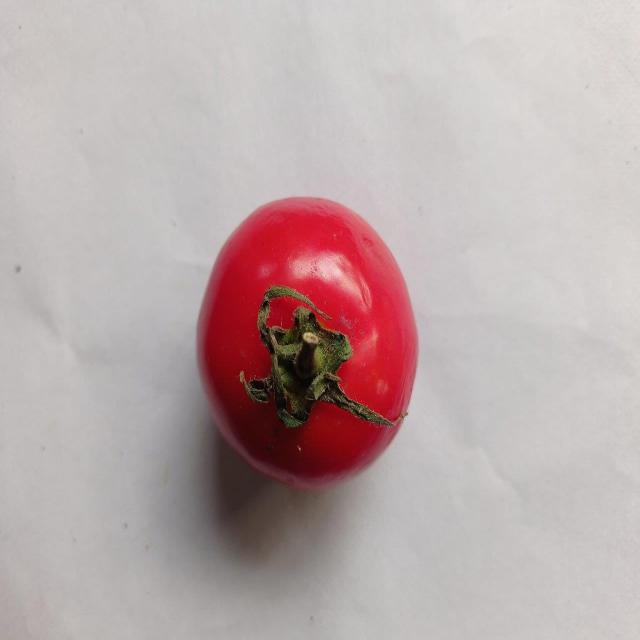Tomato: (188, 190, 420, 490)
